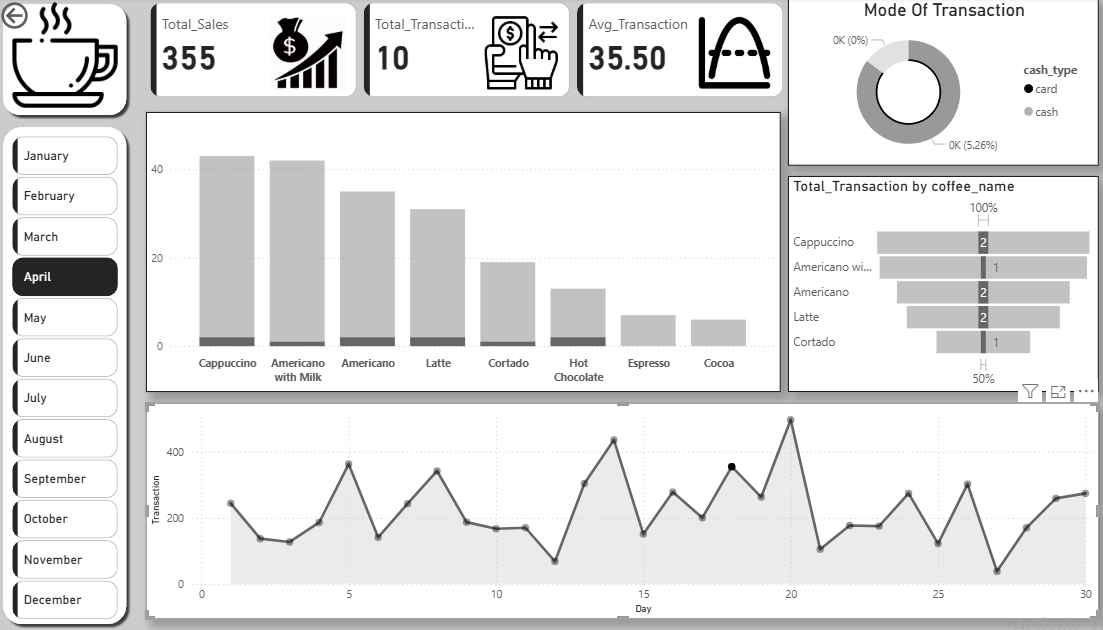

This screenshot's page, from the dashboard's own definition file:
{"tool":"powerbi","page":{"name":"Page 1","canvas":[1280,720],"ordinal":0},"visuals":[{"type":"shape","box":[0,0,154.3,140.2],"z":0},{"type":"image","box":[12.7,0,130,130],"z":1000},{"type":"shape","box":[0,140.2,154.3,580.1],"z":2000},{"type":"advancedSlicerVisual","fields":{"Values":["index.date.Variation.Date Hierarchy.Month"]},"box":[12.7,153,130,567.3],"z":3000},{"type":"actionButton","box":[0,0,100,40],"z":4000},{"type":"cardVisual","fields":{"Data":["index.Total","index.Total_Transaction","index.Average_Transaction"]},"box":[169.6,0,731.8,118.6],"z":4001},{"type":"columnChart","fields":{"Category":["index.coffee_name"],"Y":["index.Total_Transaction"]},"box":[169.6,130,722.9,318.7],"z":4002},{"type":"donutChart","title":"Mode Of Transaction","fields":{"Category":["index.cash_type"],"Y":["index.Total"]},"box":[901.4,0,354.4,191.2],"z":4003},{"type":"funnel","fields":{"Y":["index.Total_Transaction"],"Category":["index.coffee_name"]},"box":[901.4,202.7,354.4,246.1],"z":4004},{"type":"lineChart","fields":{"Category":["index.date.Variation.Date Hierarchy.Day"],"Y":["index.Total"]},"box":[169.6,461.5,1086.2,246.1],"z":4005}]}

Visuals, with their boxes in screenshot pixels (x1, y1, x2, y2), scaled from the page's 1280x720 canvas onto the 1103x630 screenshot:
shape: box(0, 0, 133, 123)
image: box(11, 0, 123, 114)
shape: box(0, 123, 133, 629)
advancedSlicerVisual - index.date.Variation.Date Hierarchy.Month: box(11, 134, 123, 629)
actionButton: box(0, 0, 86, 35)
cardVisual - index.Total x index.Total_Transaction: box(146, 0, 777, 104)
columnChart - index.coffee_name x index.Total_Transaction: box(146, 114, 769, 393)
"Mode Of Transaction" donutChart: box(777, 0, 1082, 167)
funnel - index.Total_Transaction x index.coffee_name: box(777, 177, 1082, 393)
lineChart - index.date.Variation.Date Hierarchy.Day x index.Total: box(146, 404, 1082, 619)
